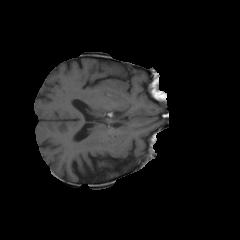glioma: (103, 64, 163, 107)
